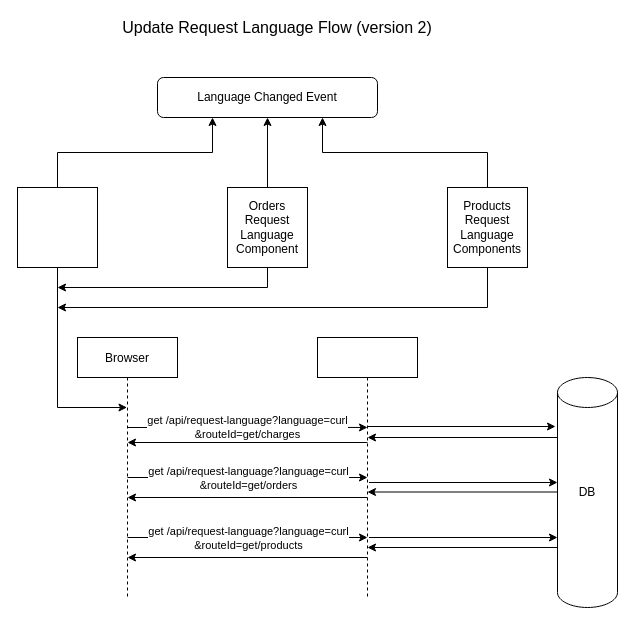
Some shapes in this 635 by 643 pixel diagram are drawn without their labels. The shapes that lost their labels are listed below. From the top down, each one's centre as x and y in pixels, then its label:
the point at 57,227: Charges Request Language Component
the point at 367,467: API Docs App
